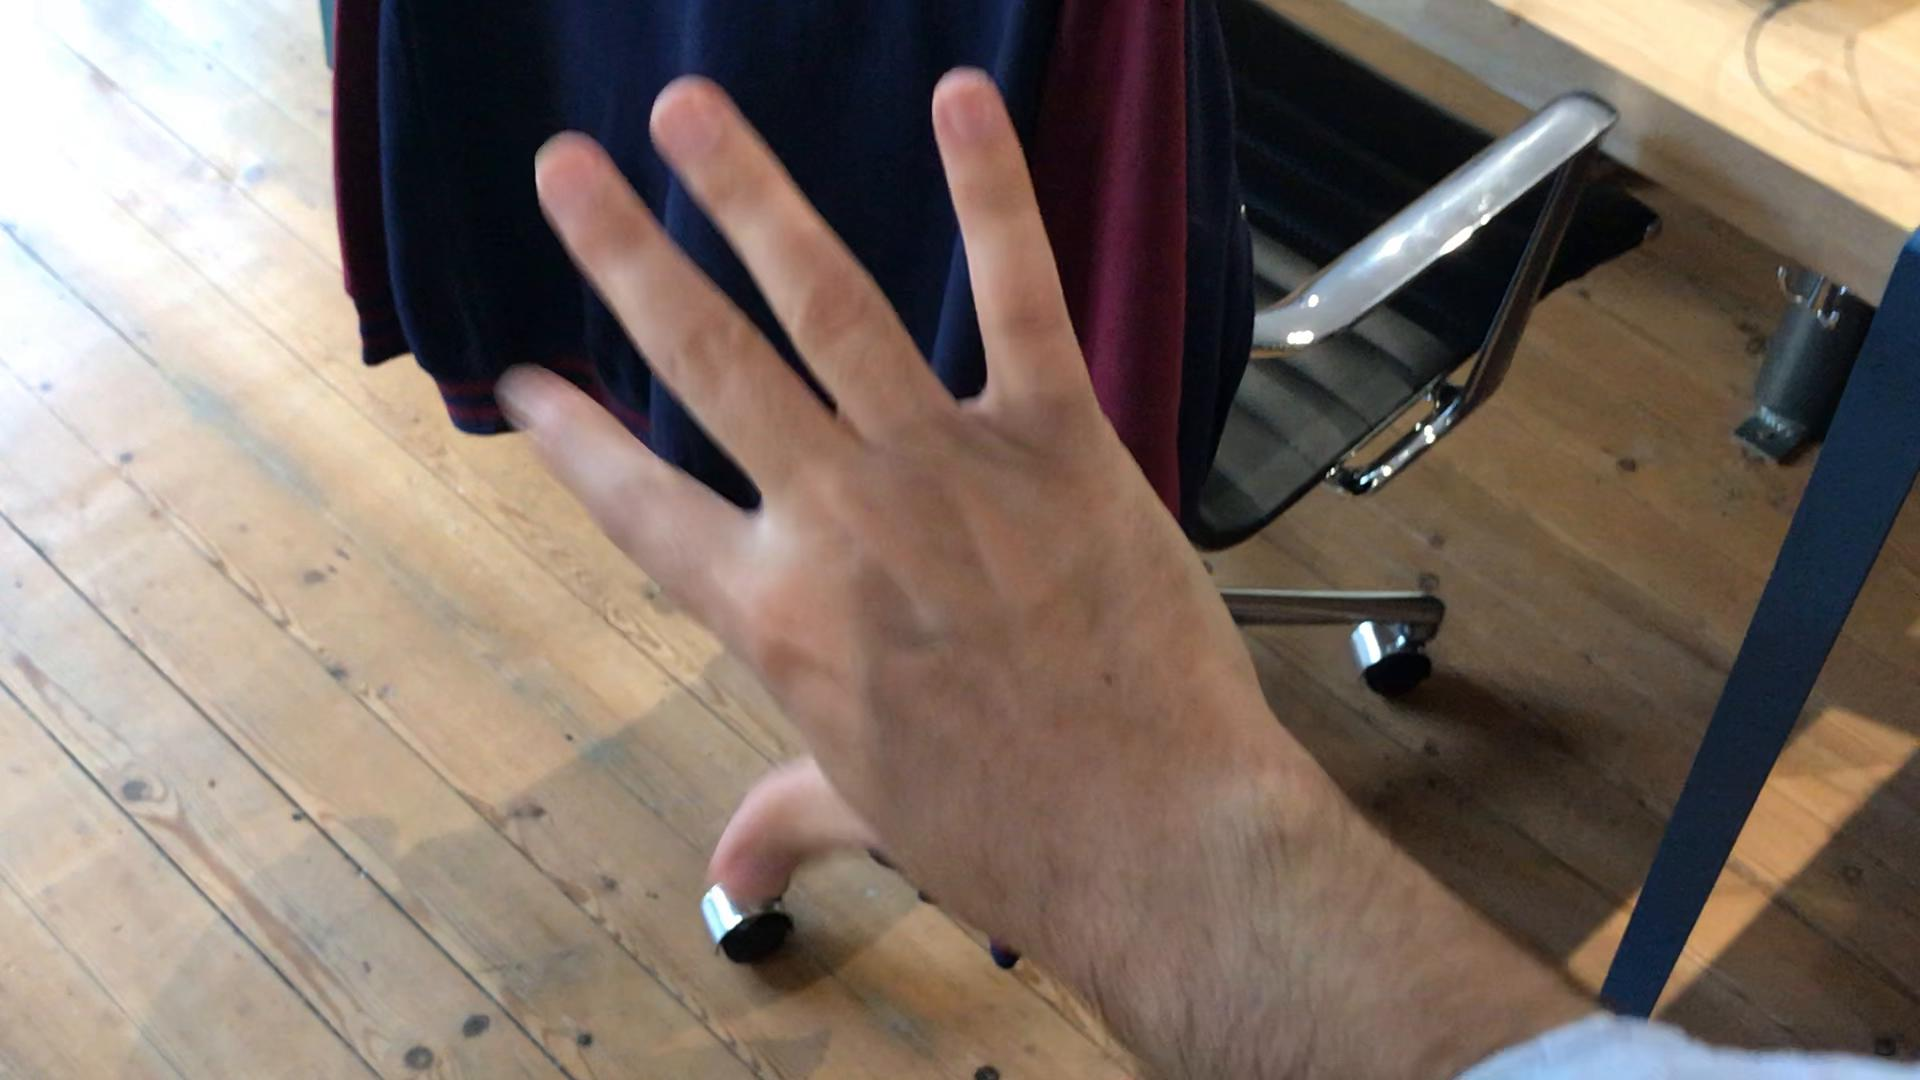hand: (498, 63, 1240, 910)
